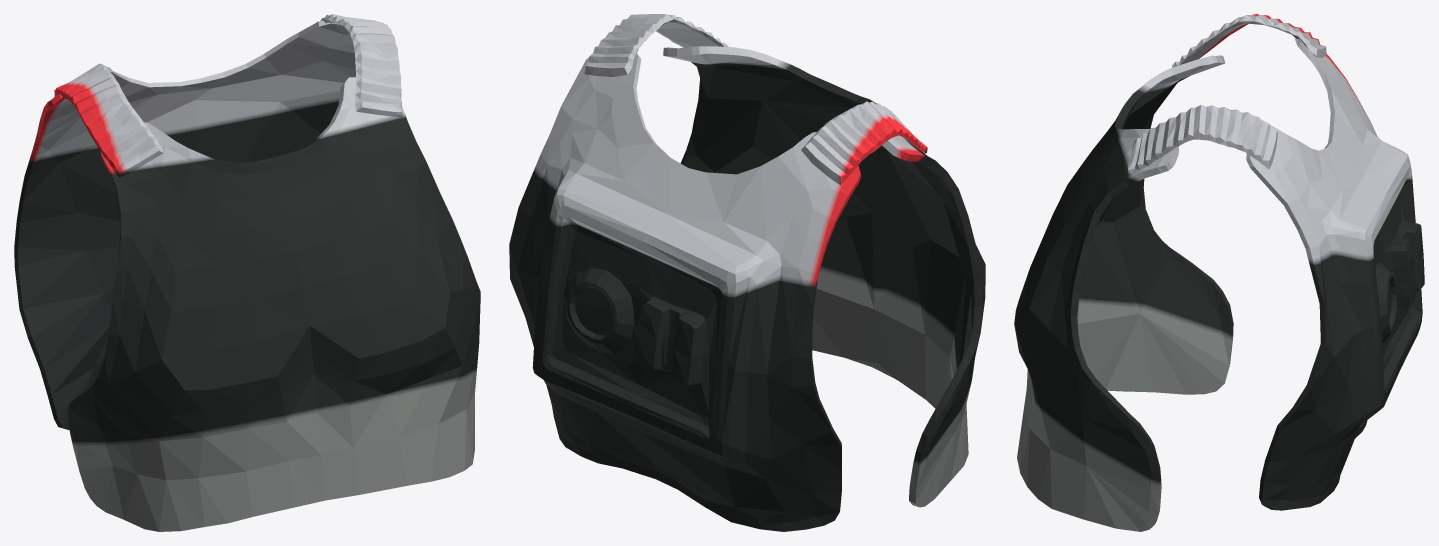
Rendered from StormTrooperGround.fbx.
The picture shows the model from 3 angles, left to right: view 1: azimuth 30°, elevation 25°; view 2: azimuth 150°, elevation 25°; view 3: azimuth 270°, elevation 25°; orthographic projection. The views are drawn at different scales.
Visible parts, largest first — view 1: Shoulder_Strap_-_Right.obj.001; view 2: Shoulder_Strap_-_Right.obj.001; view 3: Shoulder_Strap_-_Right.obj.001.
Part boxes in pixels (left/top/right/bottom): Shoulder_Strap_-_Right.obj.001: left=14, top=14, right=480, bottom=531; Shoulder_Strap_-_Right.obj.001: left=509, top=14, right=985, bottom=531; Shoulder_Strap_-_Right.obj.001: left=1014, top=14, right=1424, bottom=531.
Bounding box in the file's own units: 0.2132 × 0.2244 × 0.2039.
